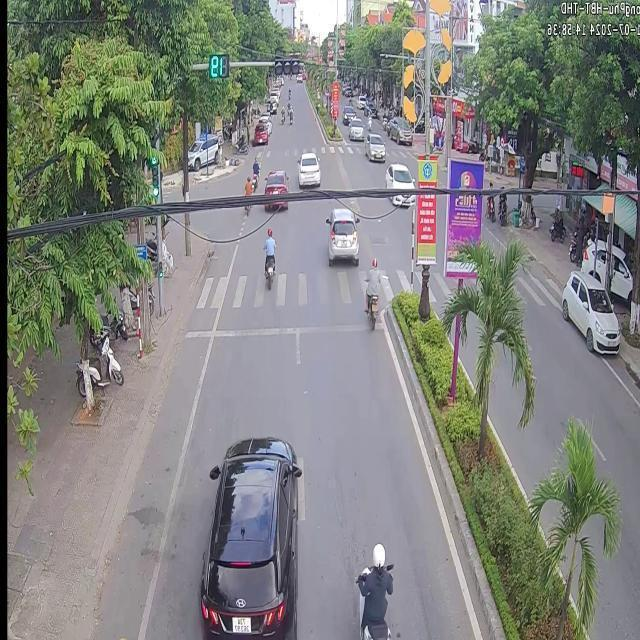car: (198, 436, 298, 635), (324, 205, 357, 265), (296, 151, 319, 186), (383, 162, 413, 187), (363, 129, 384, 159), (263, 169, 287, 194), (347, 116, 363, 140), (390, 191, 413, 205), (263, 198, 286, 208)
green_light: (272, 56, 298, 74), (149, 156, 159, 200)
motobike: (354, 542, 392, 638), (363, 256, 380, 326), (262, 227, 274, 286)
stop_line: (184, 320, 382, 338)
